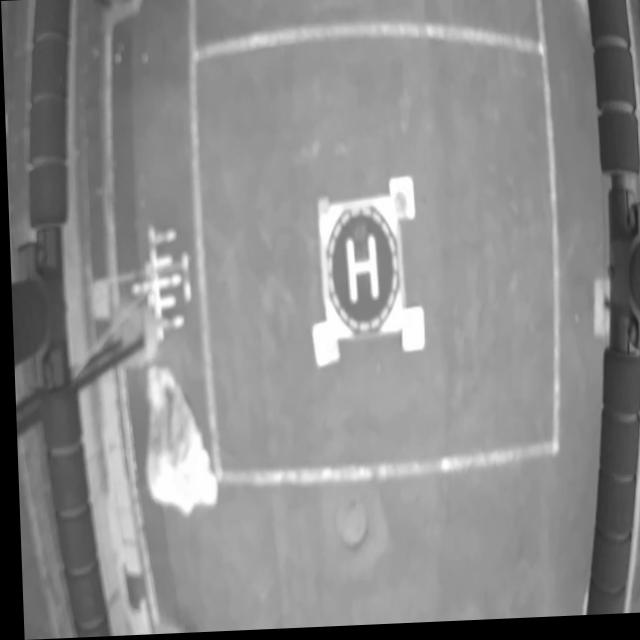Helipad: (342, 237, 376, 308)
